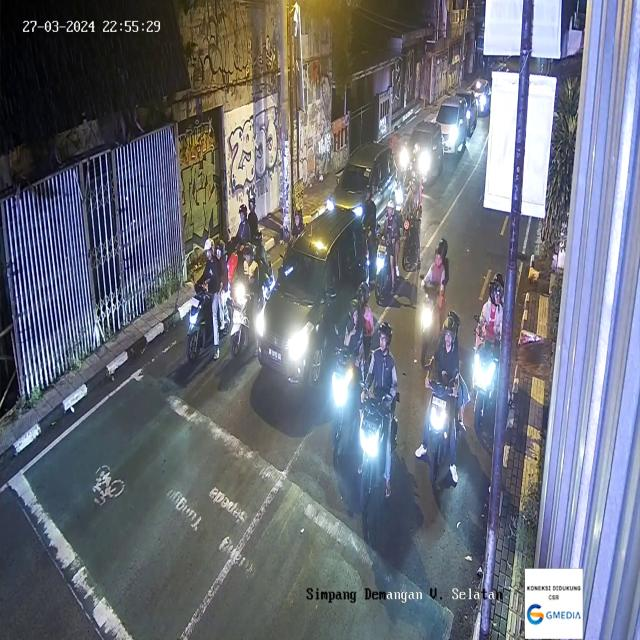car: (256, 212, 369, 388), (327, 138, 398, 223), (398, 122, 442, 192), (432, 97, 467, 157), (451, 83, 476, 137), (472, 80, 493, 115)
motorcycle: (358, 320, 395, 528), (332, 282, 375, 458), (425, 310, 461, 481), (232, 236, 276, 364), (186, 238, 228, 353), (477, 270, 504, 418), (418, 233, 450, 355), (225, 194, 262, 262), (373, 196, 398, 296), (402, 172, 421, 275)
